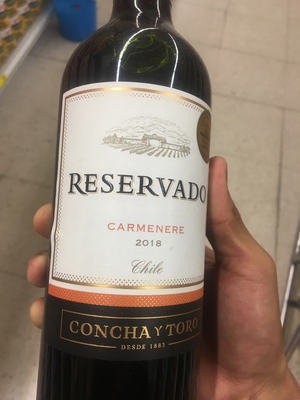reservado carmenere: (46, 6, 212, 400)
